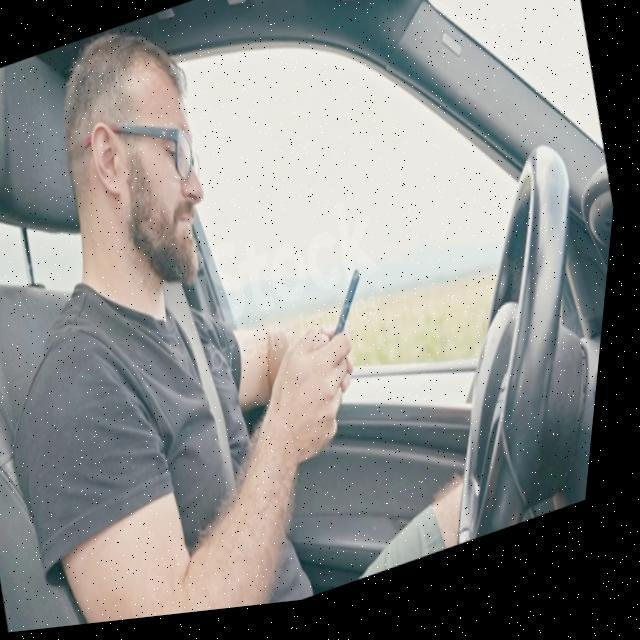PhoneCall: (321, 273, 382, 353)
